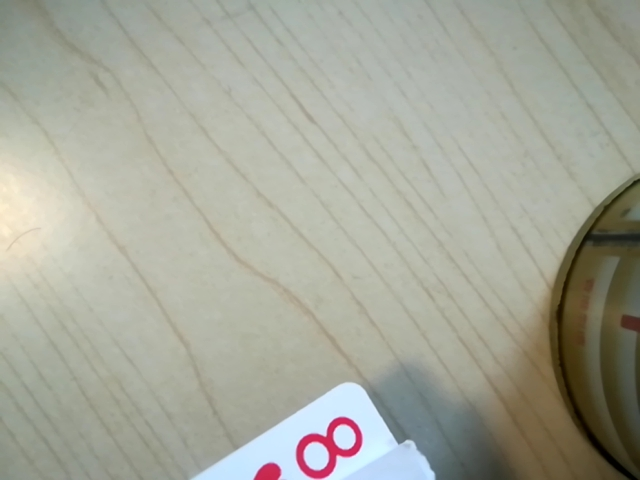hx 8: (241, 407, 384, 480)
